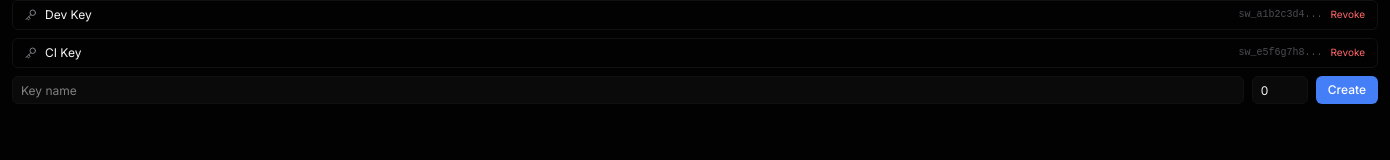
Test: ApiKeySection › removes the key from the list after revoking
Expected: the text "Dev Key" is shown, x1=45 y1=7 x2=92 y2=22
Click the button "Revoke" next to "sw_a1b2c3d4" at [1348, 15], box x1=1330 y1=8 x2=1365 y2=22
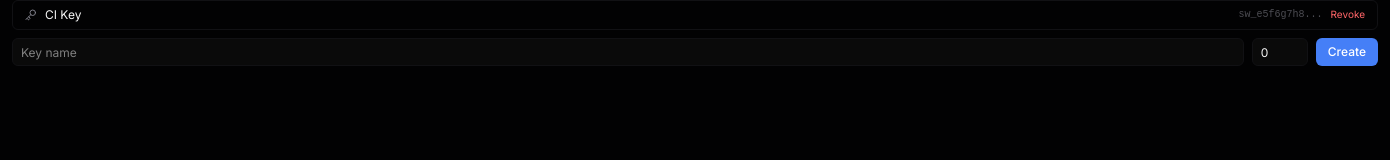
Expected: the text "CI Key" is shown, x1=45 y1=7 x2=82 y2=22
Expected: the text "Dev Key" is gone
